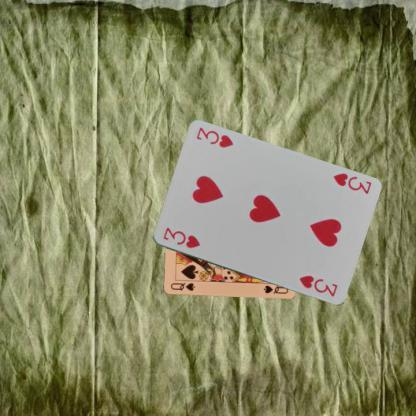3h: (330, 170, 373, 196), (160, 224, 201, 249)
Qs: (167, 281, 196, 292)
